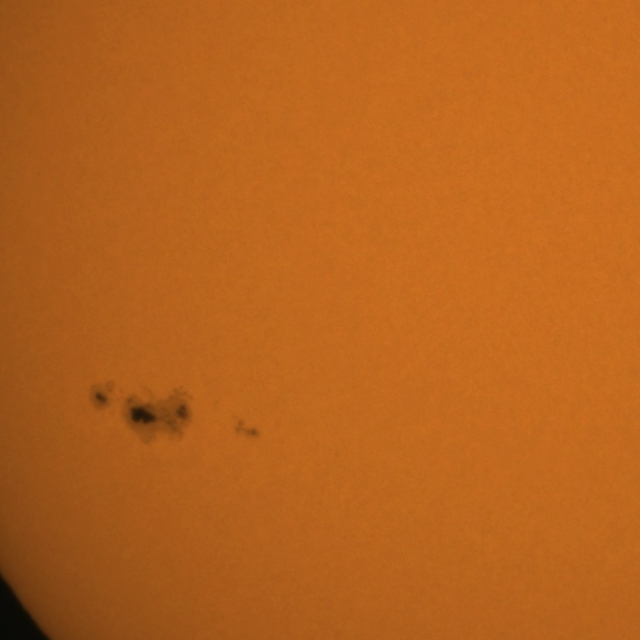sunspot: (131, 392, 194, 448), (233, 418, 260, 440), (92, 383, 112, 412)
